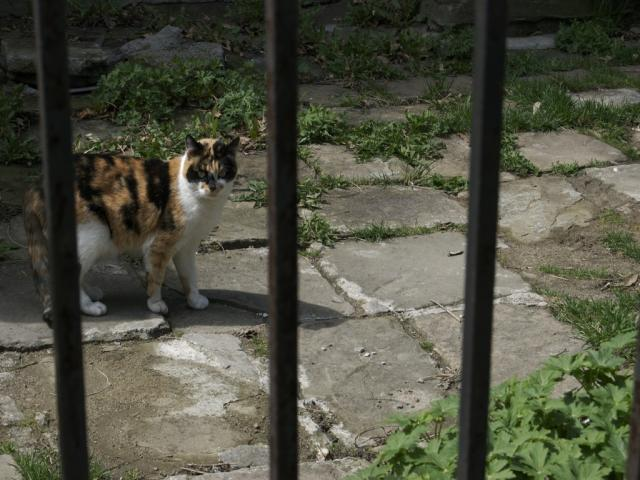Cat: (19, 133, 242, 329)
